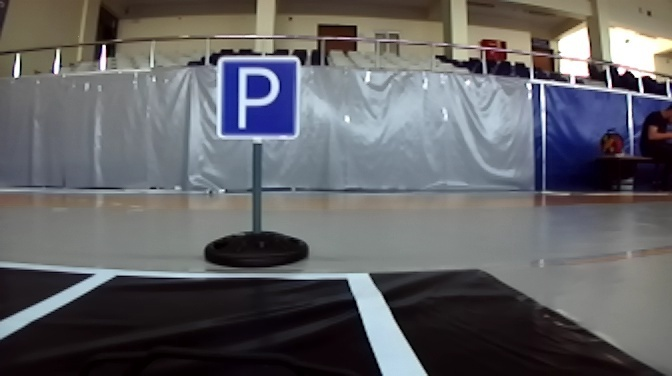park: (216, 56, 299, 143)
